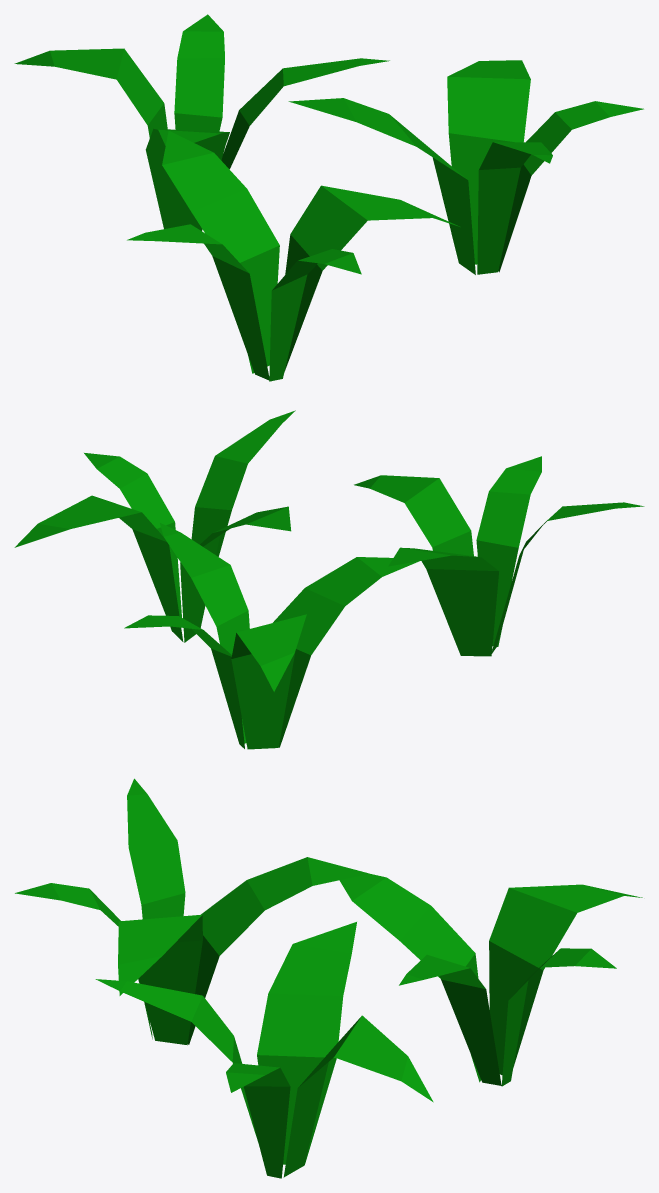
Rendered from corn_1.glb.
The picture shows the model from 3 angles, top to bottom: view 1: azimuth 30°, elevation 25°; view 2: azimuth 150°, elevation 25°; view 3: azimuth 270°, elevation 25°; orthographic projection. The views are drawn at different scales.
Parts seen in each view (by area): view 1: corn_1; view 2: corn_1; view 3: corn_1.
Part boxes in pixels (box(x1,y1,x2,y2)): corn_1: box(14, 14, 643, 381); corn_1: box(14, 410, 644, 749); corn_1: box(15, 778, 642, 1178).
Bounding box in the file's own units: 2.9 × 0.9268 × 2.84.
